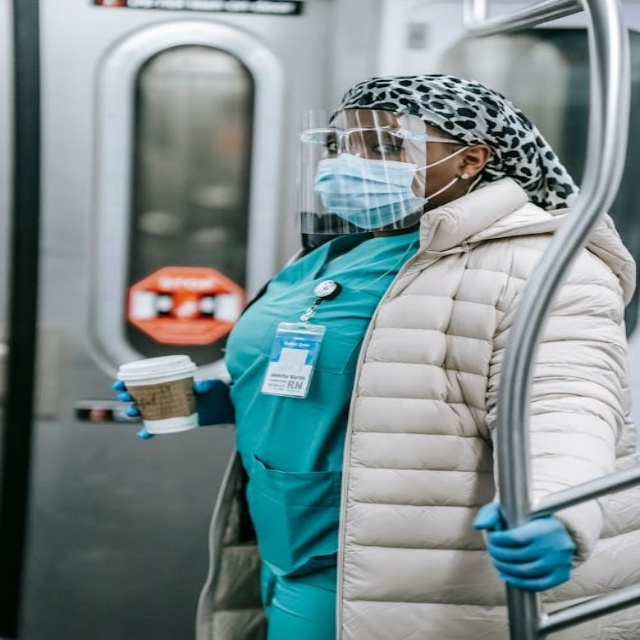Gafas: (302, 126, 463, 158)
Guantes: (467, 500, 579, 593), (105, 377, 229, 444)
Mascara: (313, 149, 432, 229)
